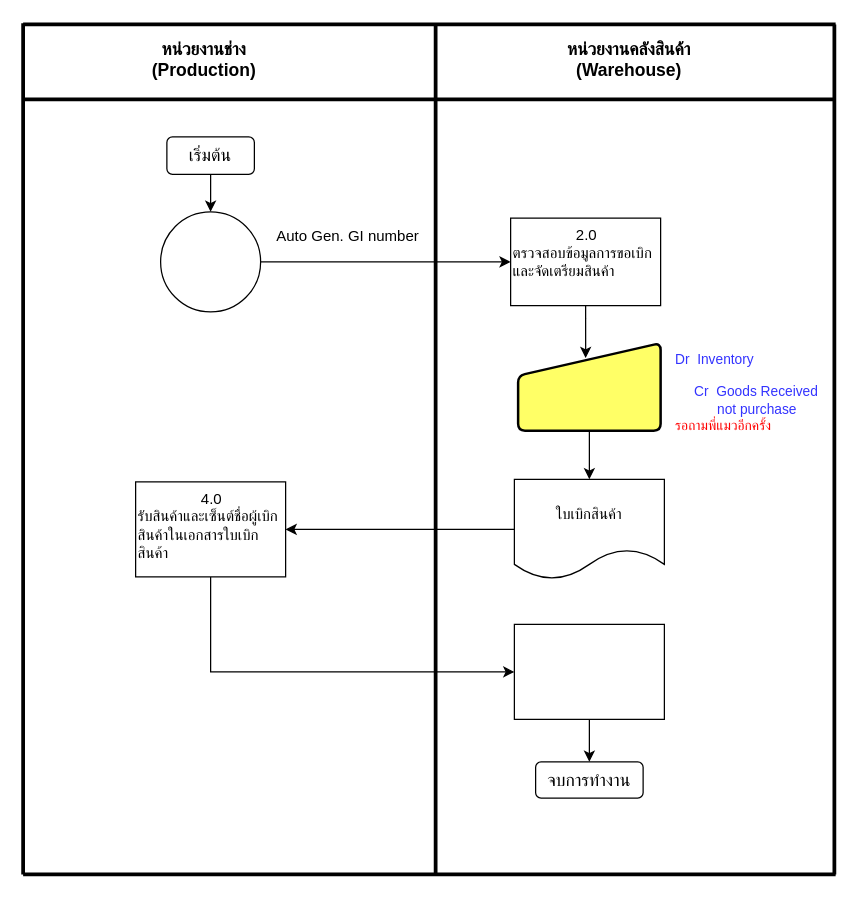
Image size: 860x899. Some labels were removed from this diagram. The shapes that lost their labels are listed below. From the top down, each one's box as (x1, y1, x2, y2) in pixels, then its label:
(159, 211, 261, 312): 1.0 การผลิตสินค้า
(516, 341, 661, 431): 3.0 ทำรับตัดสต็อคสินค้าออกจากระบบ
(513, 623, 664, 719): 5.0 เก็บเอกสารใบเบิกสินค้าเข้าแฟ้มเอกสาร
